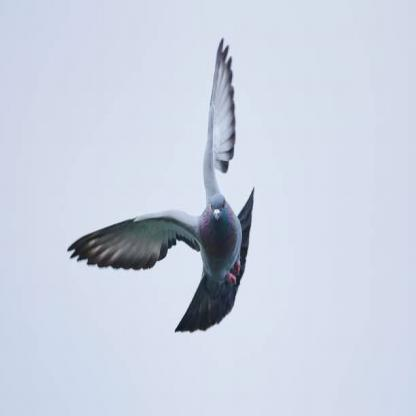Rock Pigeon: (171, 110, 247, 338)
